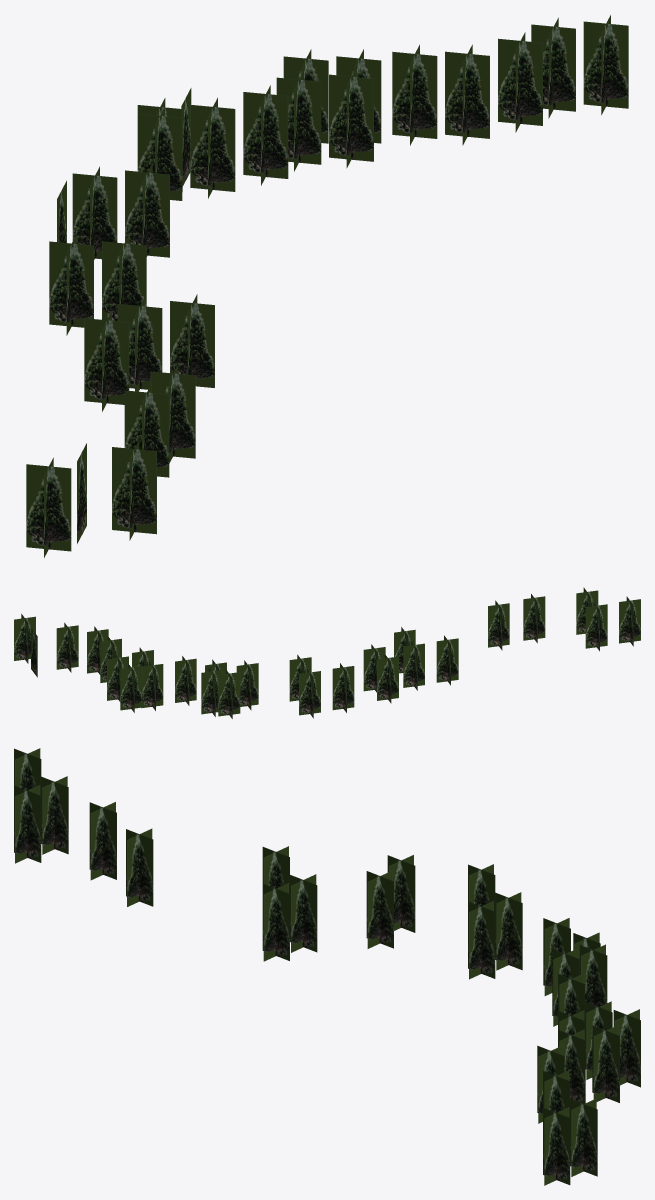
Rendered from RM_PLAYSURFACE_FINAL_INST_PINE_LOD1_71.fbx.
3 renders of one model, top to bottom at view 1: azimuth 30°, elevation 25°; view 2: azimuth 150°, elevation 25°; view 3: azimuth 270°, elevation 25°, orthographic. The views are drawn at different scales.
Parts seen in each view (by area): view 1: RM_PLAYSURFACE_FINAL_INST_PINE_LOD1_71; view 2: RM_PLAYSURFACE_FINAL_INST_PINE_LOD1_71; view 3: RM_PLAYSURFACE_FINAL_INST_PINE_LOD1_71.
Boxes of the visible parts, x1,y1,x2,y2 form: RM_PLAYSURFACE_FINAL_INST_PINE_LOD1_71: (26,15,628,557); RM_PLAYSURFACE_FINAL_INST_PINE_LOD1_71: (14,587,640,718); RM_PLAYSURFACE_FINAL_INST_PINE_LOD1_71: (14,748,640,1185).
Bounding box in the file's own units: 619778 × 74962 × 454867.
Materials: 1 (1 with a texture image).
